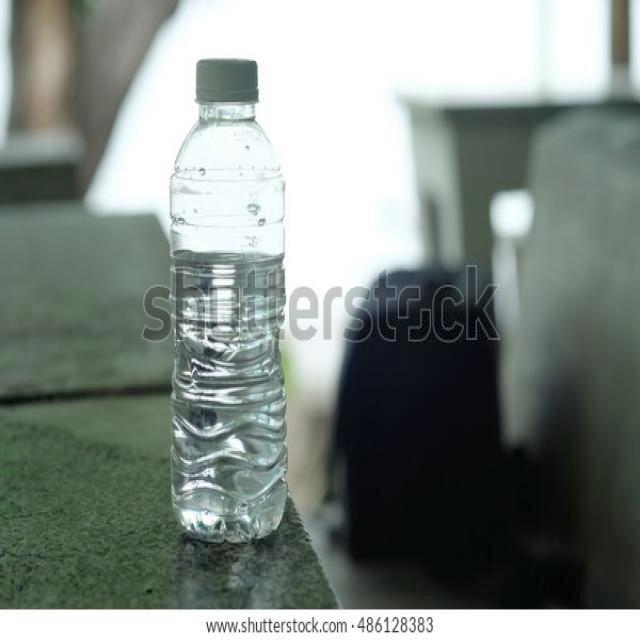bottle: (170, 58, 288, 543)
